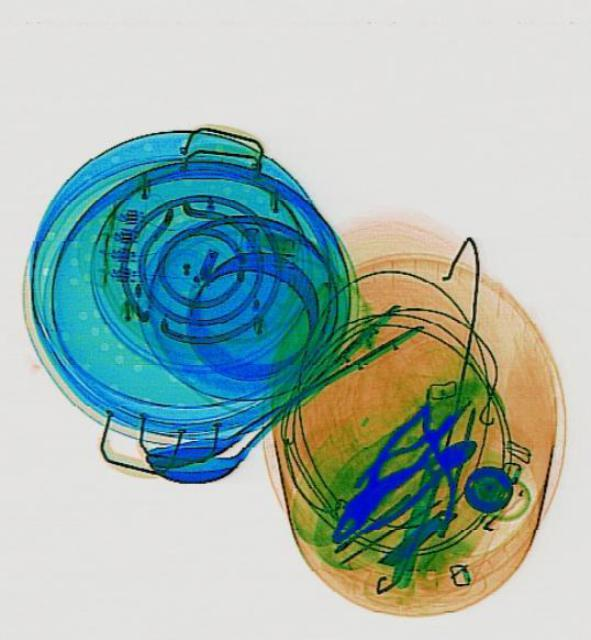Pliers: (313, 394, 455, 554), (336, 424, 490, 540)
